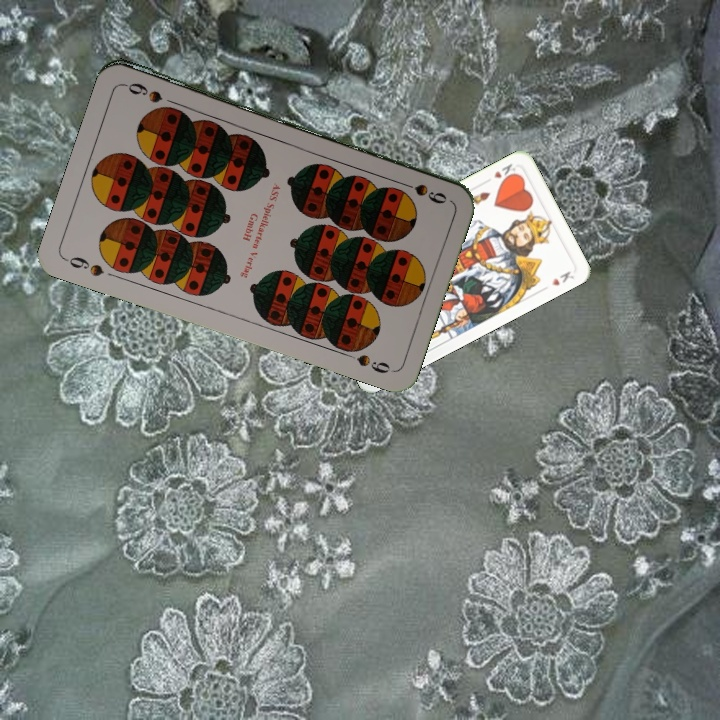HK: (489, 159, 522, 185)
S9: (393, 176, 449, 205), (61, 252, 107, 279)
